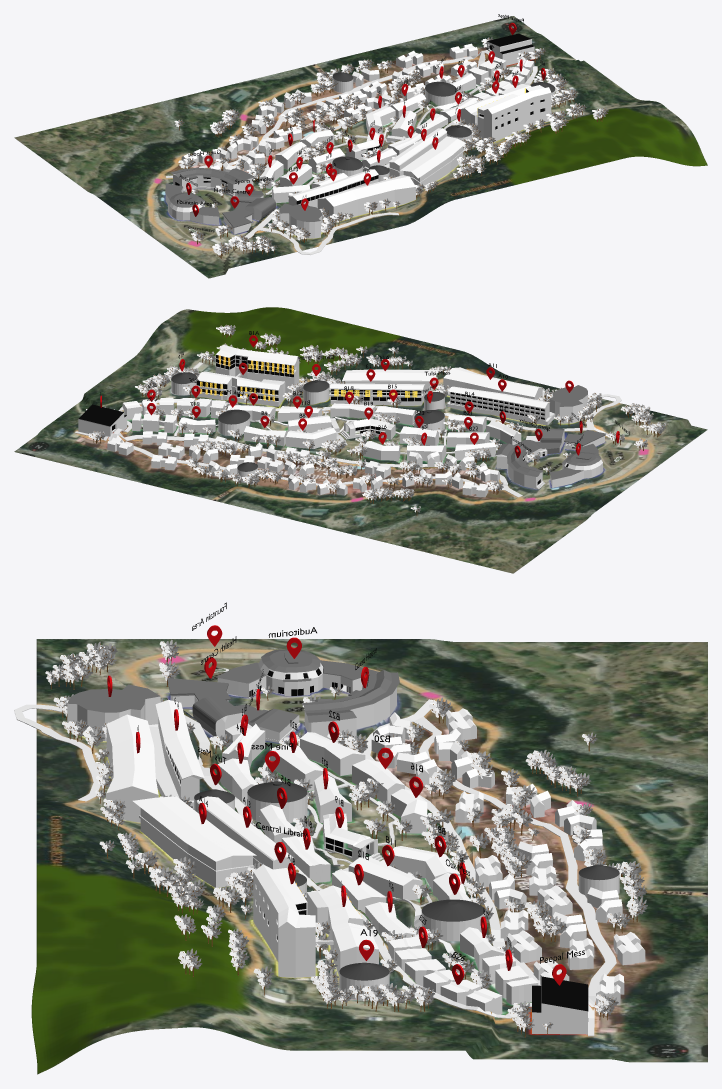
File: map2TREETREE.glb
The picture shows the model from 3 angles, top to bottom: view 1: azimuth 30°, elevation 25°; view 2: azimuth 150°, elevation 25°; view 3: azimuth 270°, elevation 25°; orthographic projection. The views are drawn at different scales.
Parts seen in each view (by area): view 1: Dharti, A17+A18, A13 + A14, A11, Road, Guest House, Auditorium, A10, A9, Peepal Mess, Plane, Oak Mess (+10 smaller); view 2: Dharti, A17+A18, A13 + A14, A10, Road, A11, Auditorium, Guest House, Peepal Mess, A9, Plane, B19 (+22 smaller); view 3: Dharti, A17+A18, Road, A13 + A14, Auditorium, A11, Guest House, A10, A9, Plane, Peepal Mess, Oak Mess (+27 smaller).
Part boxes in pixels (x1=…): Dharti: x1=14, y1=16, x2=707, y2=278; A17+A18: x1=460, y1=84, x2=551, y2=142; A13 + A14: x1=388, y1=128, x2=465, y2=189; A11: x1=317, y1=175, x2=415, y2=220; Road: x1=166, y1=50, x2=537, y2=254; Guest House: x1=170, y1=167, x2=255, y2=196; Auditorium: x1=165, y1=183, x2=219, y2=224; A10: x1=288, y1=169, x2=378, y2=207; A9: x1=279, y1=203, x2=322, y2=238; Peepal Mess: x1=486, y1=33, x2=534, y2=65; Plane: x1=235, y1=191, x2=276, y2=220; Oak Mess: x1=425, y1=81, x2=457, y2=105; Dharti: x1=14, y1=307, x2=707, y2=573; A17+A18: x1=196, y1=344, x2=299, y2=406; A13 + A14: x1=329, y1=369, x2=442, y2=405; A10: x1=447, y1=386, x2=555, y2=425; Road: x1=74, y1=394, x2=621, y2=497; A11: x1=443, y1=367, x2=542, y2=399; Auditorium: x1=550, y1=443, x2=602, y2=487; Guest House: x1=495, y1=443, x2=545, y2=489; Peepal Mess: x1=78, y1=404, x2=127, y2=436; A9: x1=549, y1=385, x2=587, y2=423; Plane: x1=514, y1=428, x2=564, y2=460; B19: x1=340, y1=418, x2=395, y2=439; Dharti: x1=31, y1=639, x2=707, y2=1074; A17+A18: x1=253, y1=864, x2=378, y2=977; Road: x1=14, y1=699, x2=616, y2=1036; A13 + A14: x1=133, y1=796, x2=293, y2=887; Auditorium: x1=216, y1=649, x2=378, y2=697; A11: x1=106, y1=714, x2=158, y2=822; Guest House: x1=301, y1=670, x2=399, y2=739; A10: x1=149, y1=699, x2=204, y2=808; A9: x1=67, y1=684, x2=160, y2=741; Plane: x1=192, y1=697, x2=300, y2=742; Peepal Mess: x1=532, y1=976, x2=588, y2=1034; Oak Mess: x1=421, y1=899, x2=484, y2=941.
Size of the model in its own units: 627 by 82.52 by 436.
15 materials, 1 textured.
